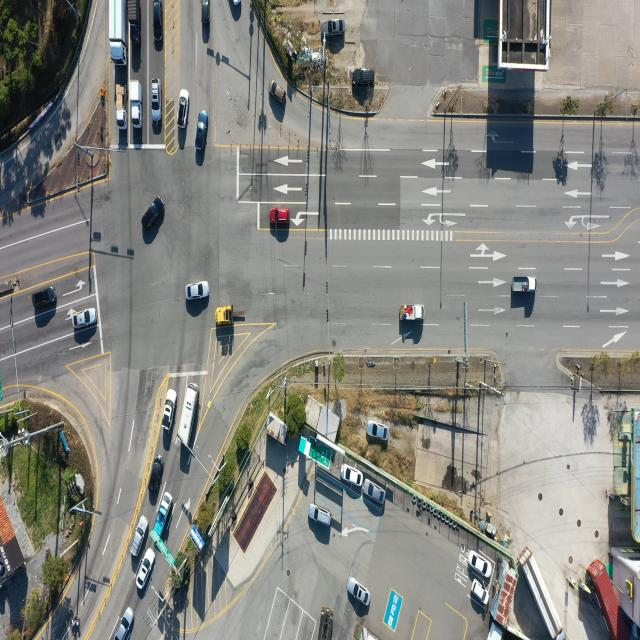car: (137, 546, 156, 588), (131, 514, 149, 556), (348, 576, 371, 606), (148, 456, 164, 498), (467, 552, 491, 579), (142, 201, 162, 232), (114, 608, 133, 640), (471, 574, 489, 607), (164, 390, 177, 434), (363, 480, 384, 506), (309, 506, 332, 528), (72, 309, 97, 329), (320, 18, 346, 36), (343, 464, 364, 486), (197, 110, 208, 152), (33, 288, 57, 307), (366, 421, 387, 441), (150, 79, 160, 121), (152, 0, 162, 42), (185, 282, 208, 300), (352, 68, 375, 86), (270, 80, 286, 104), (178, 91, 188, 129), (271, 209, 290, 223), (201, 0, 212, 24), (151, 79, 159, 105), (231, 0, 243, 6)
medium_truck: (522, 547, 564, 638), (109, 0, 128, 64)
small_bus: (176, 384, 197, 447)
small_truck: (156, 491, 175, 540), (114, 84, 128, 131), (130, 81, 144, 127), (127, 0, 140, 44), (512, 276, 538, 294), (402, 306, 426, 322)
